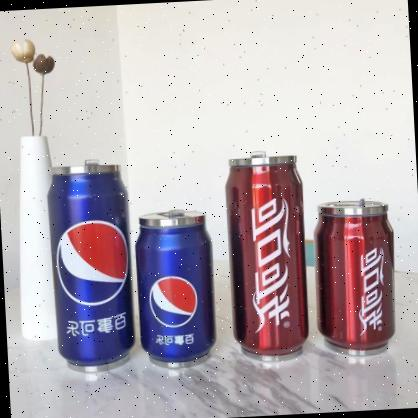can: (44, 157, 138, 370), (221, 150, 316, 358), (310, 194, 401, 360), (132, 204, 218, 366)
